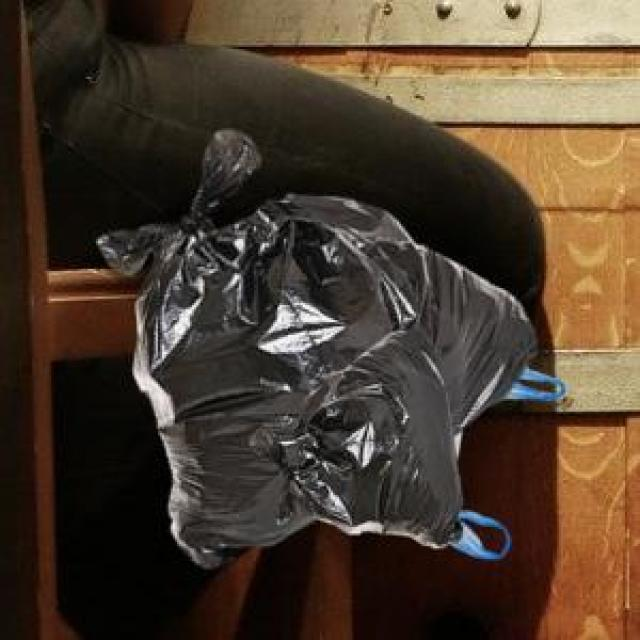miscellaneous trash: (94, 126, 533, 563), (245, 326, 459, 544)
